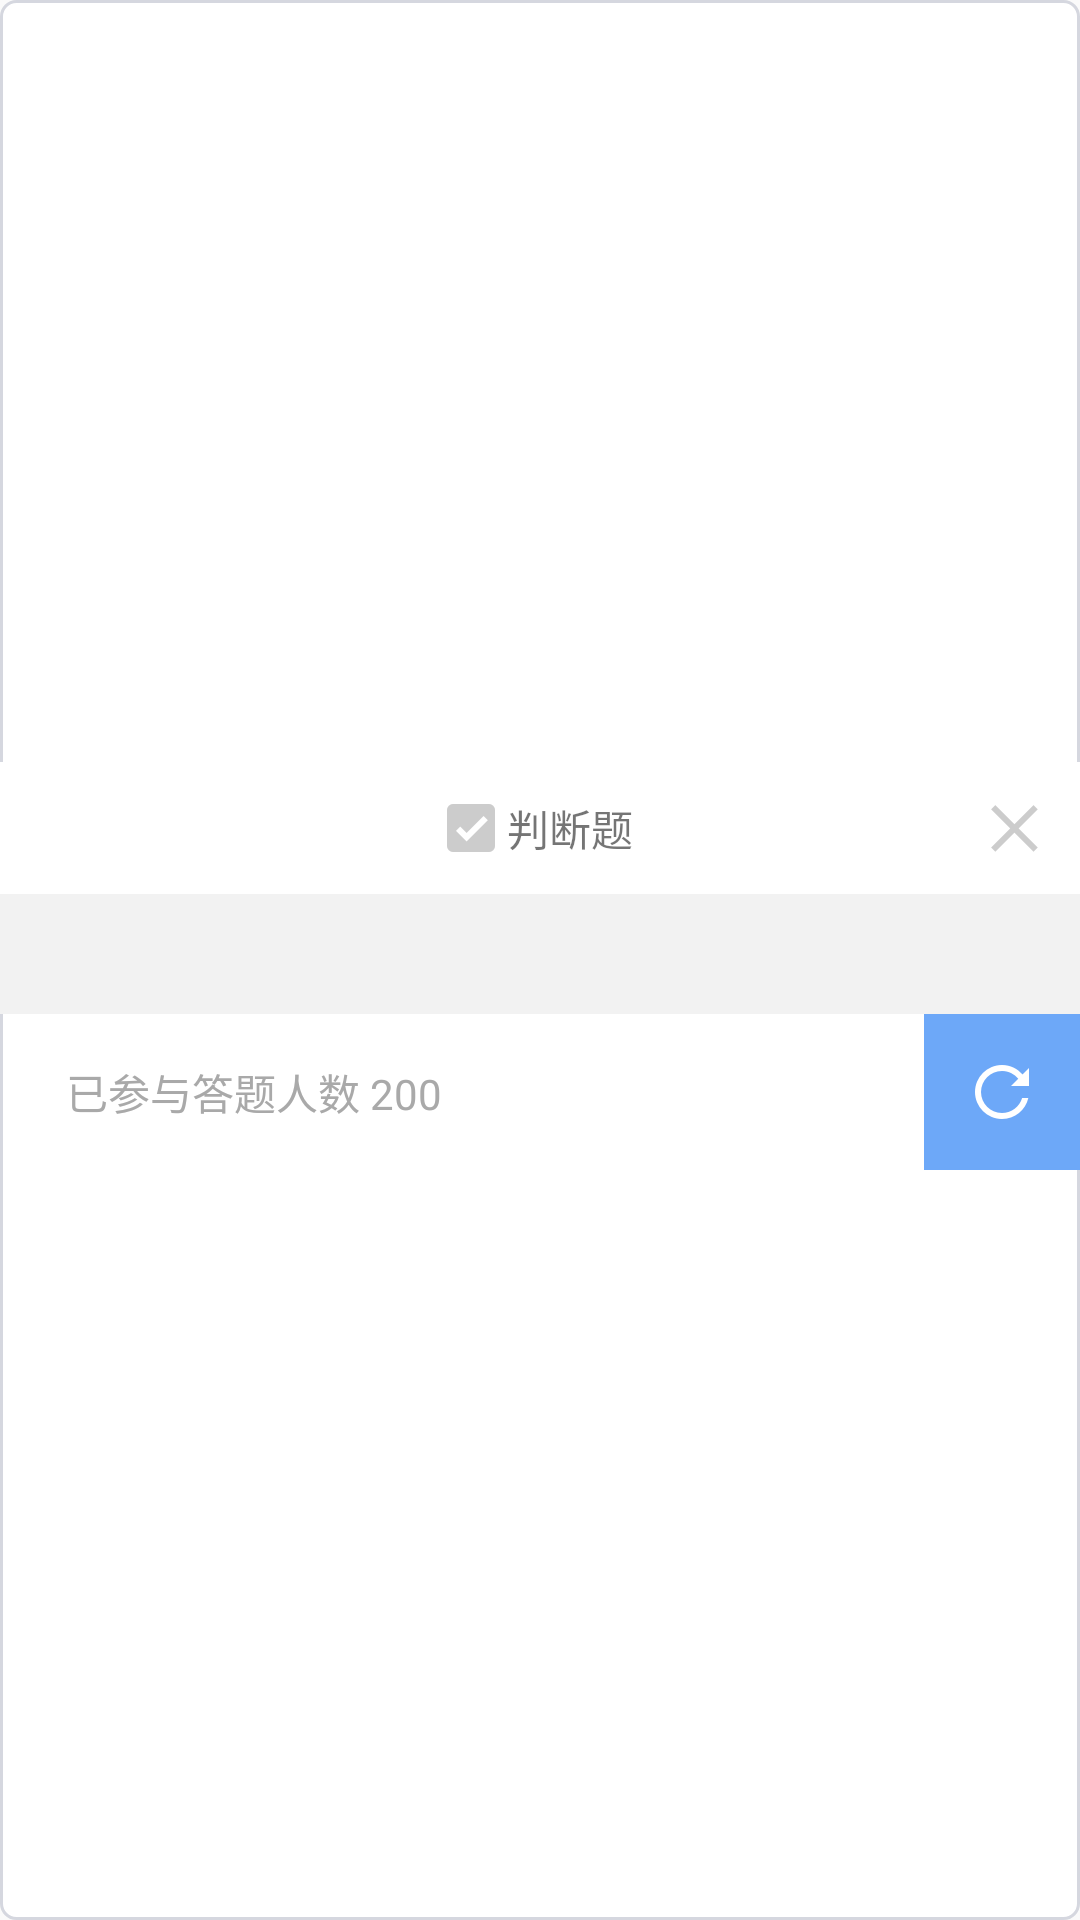

Where icons sit on this 1080 × 1920 app screen, as (x1, y1, x2, y2):
answer close: (991, 805, 1038, 852)
answer refresh: (924, 1014, 1080, 1170)
